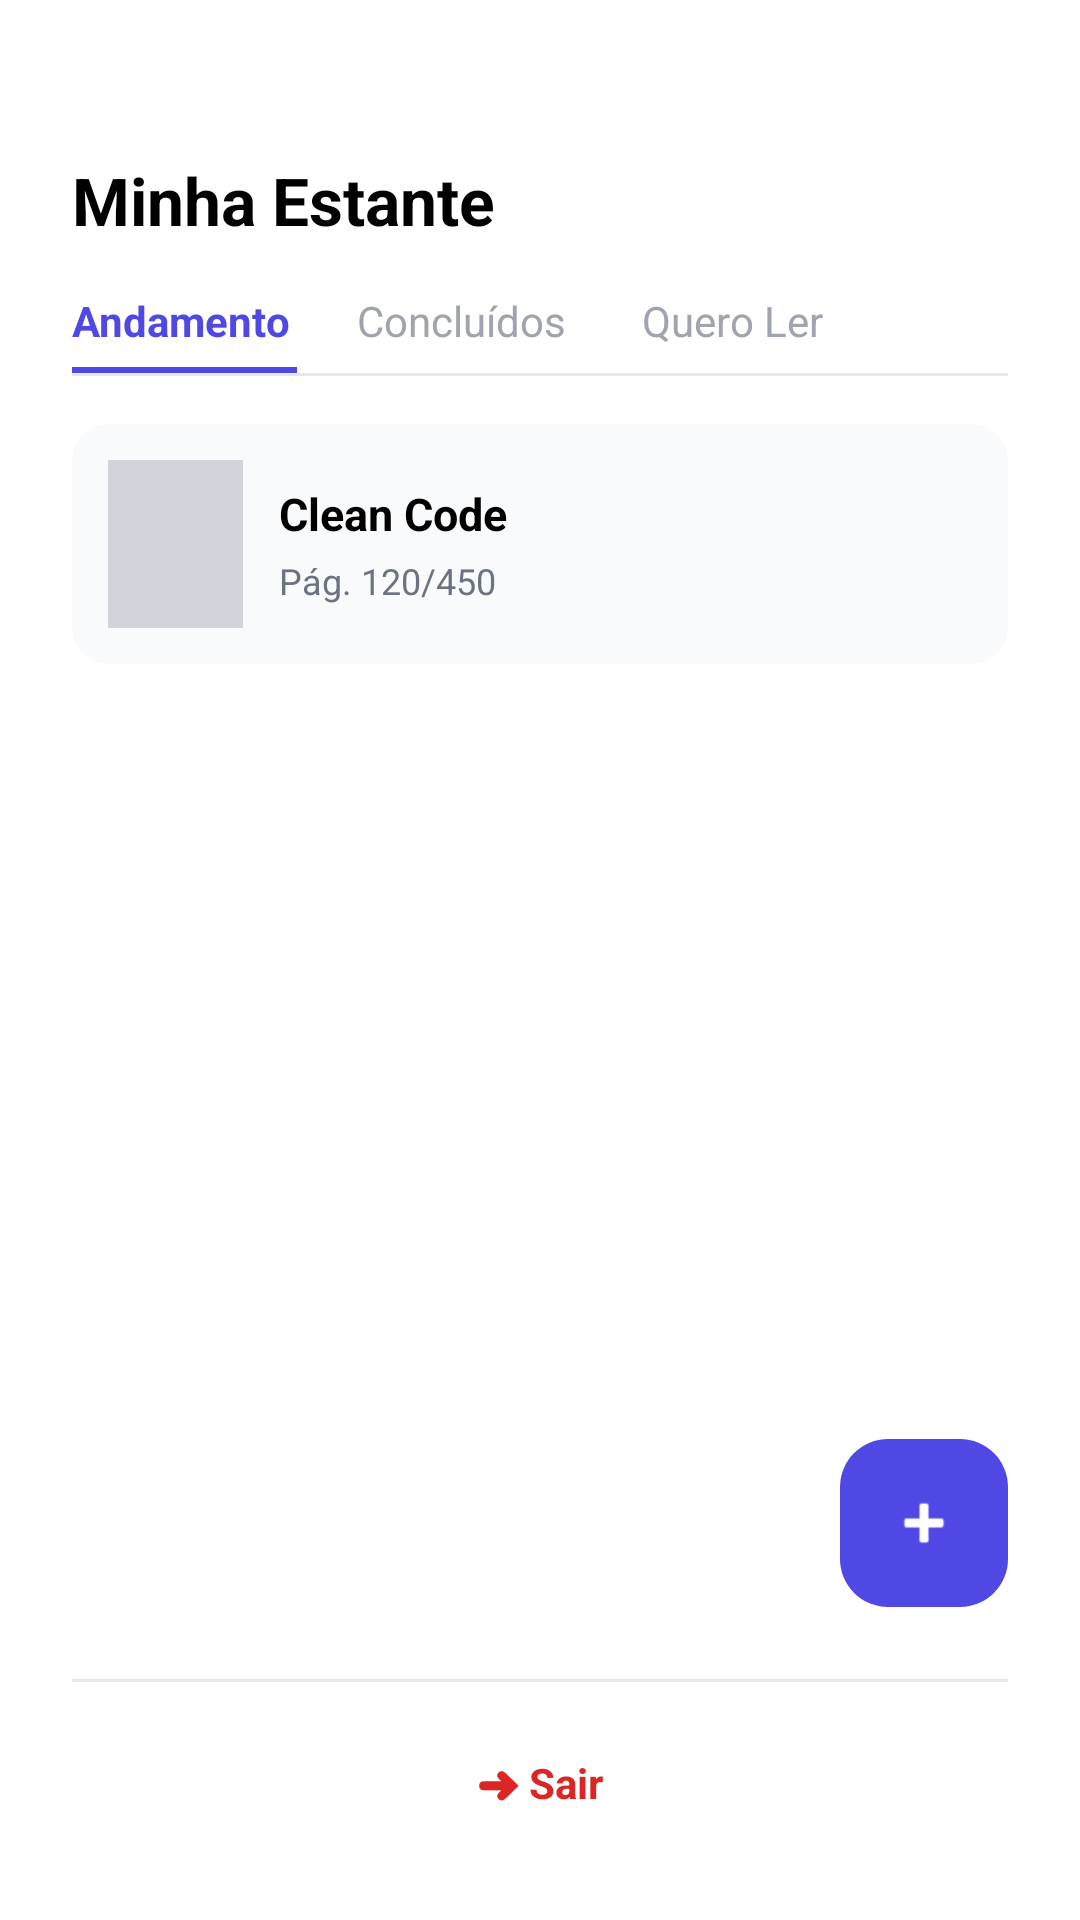

Screen size 1080px×1920px. Icon name, then its center in pixels as point (x, y):
add: point (924, 1523)
